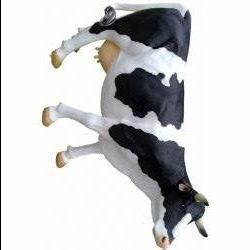cow: (41, 2, 210, 249)
